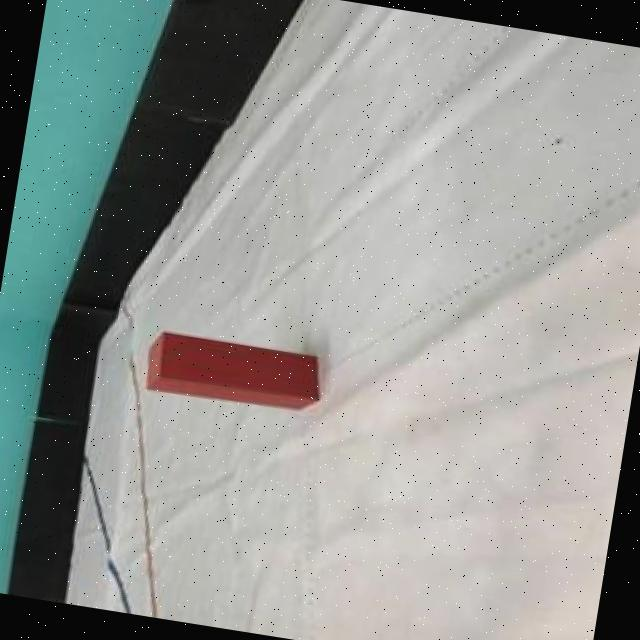redbox: (137, 323, 326, 418)
